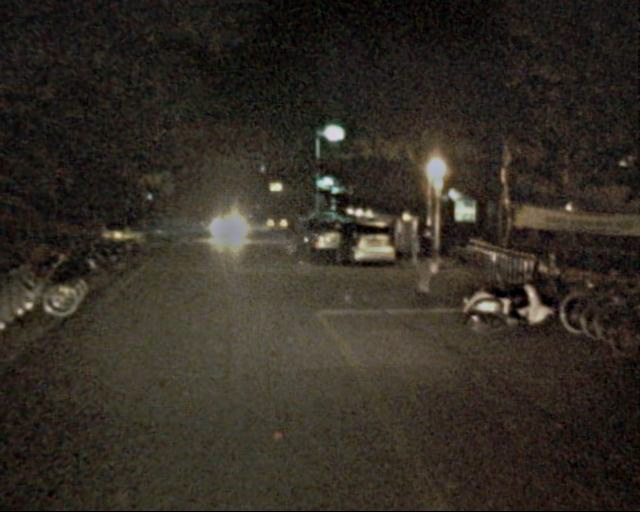person: (408, 227, 440, 304)
